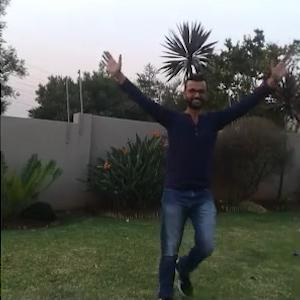takeoff: (105, 47, 281, 299)
